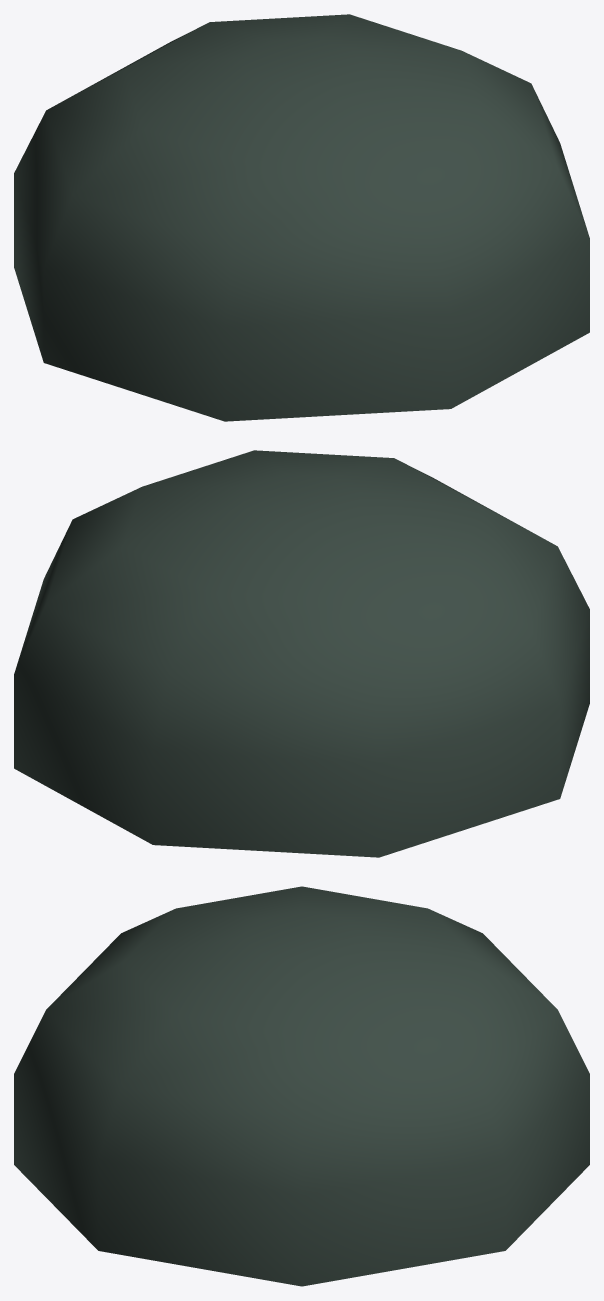
The model's file is Polycube_63.FBX.
3 renders of one model, top to bottom at view 1: azimuth 30°, elevation 25°; view 2: azimuth 150°, elevation 25°; view 3: azimuth 270°, elevation 25°, orthographic. The views are drawn at different scales.
Parts seen in each view (by area): view 1: Polycube_63; view 2: Polycube_63; view 3: Polycube_63.
Part boxes in pixels (<box>): Polycube_63: <box>14,14,589,421</box>; Polycube_63: <box>14,450,589,857</box>; Polycube_63: <box>14,886,589,1286</box>.
Size of the model in its own units: 5.1 by 2.23 by 5.1.
